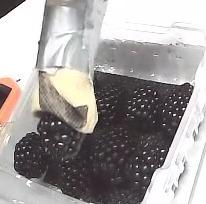berry: (89, 125, 138, 187), (126, 133, 167, 193), (57, 157, 98, 202), (125, 86, 161, 133), (44, 120, 85, 161), (163, 84, 195, 136), (14, 132, 46, 178), (95, 80, 124, 127)
